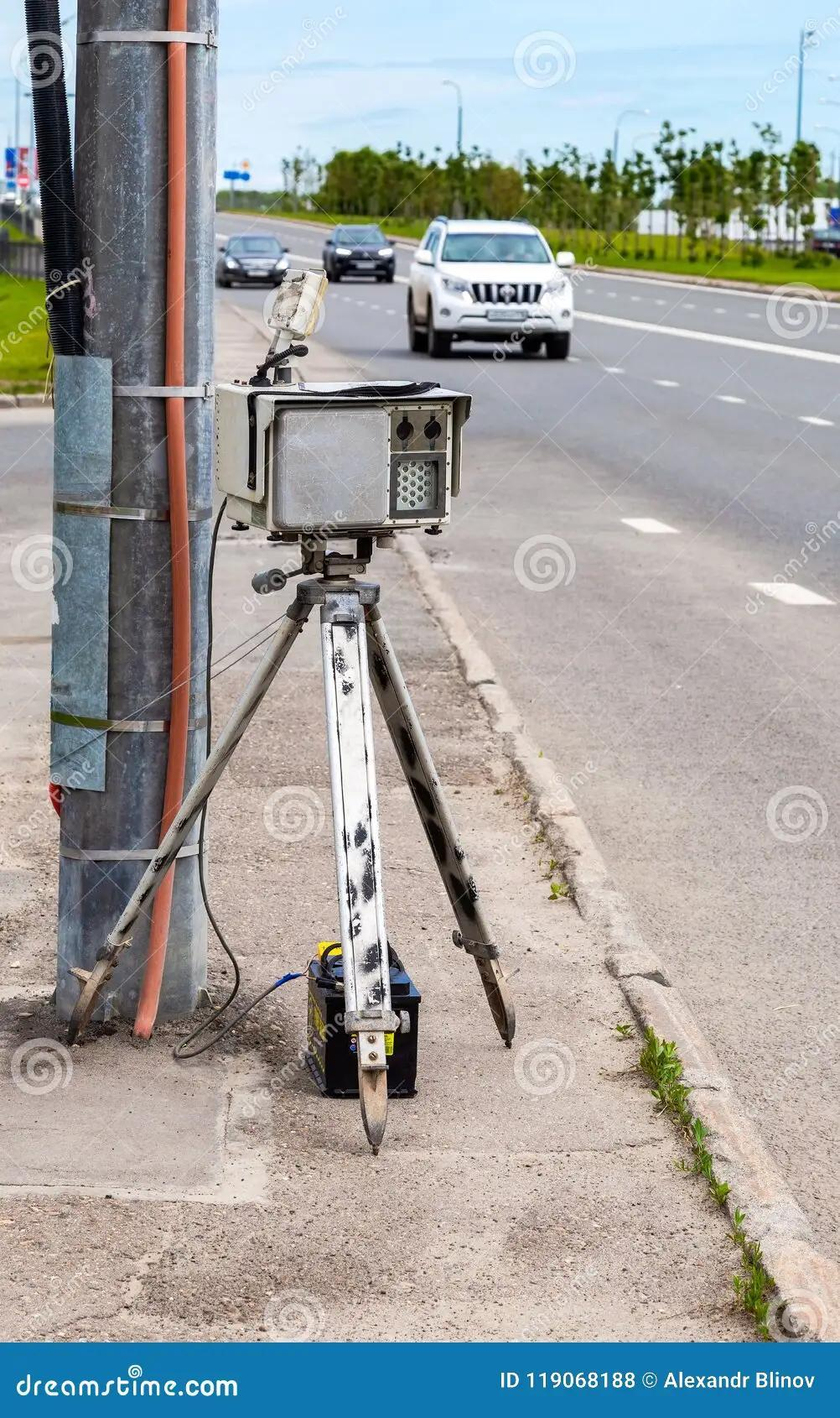Monitor: (212, 375, 472, 543)
